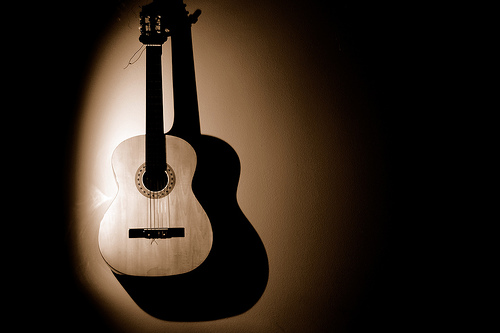guitar: (97, 1, 215, 279)
